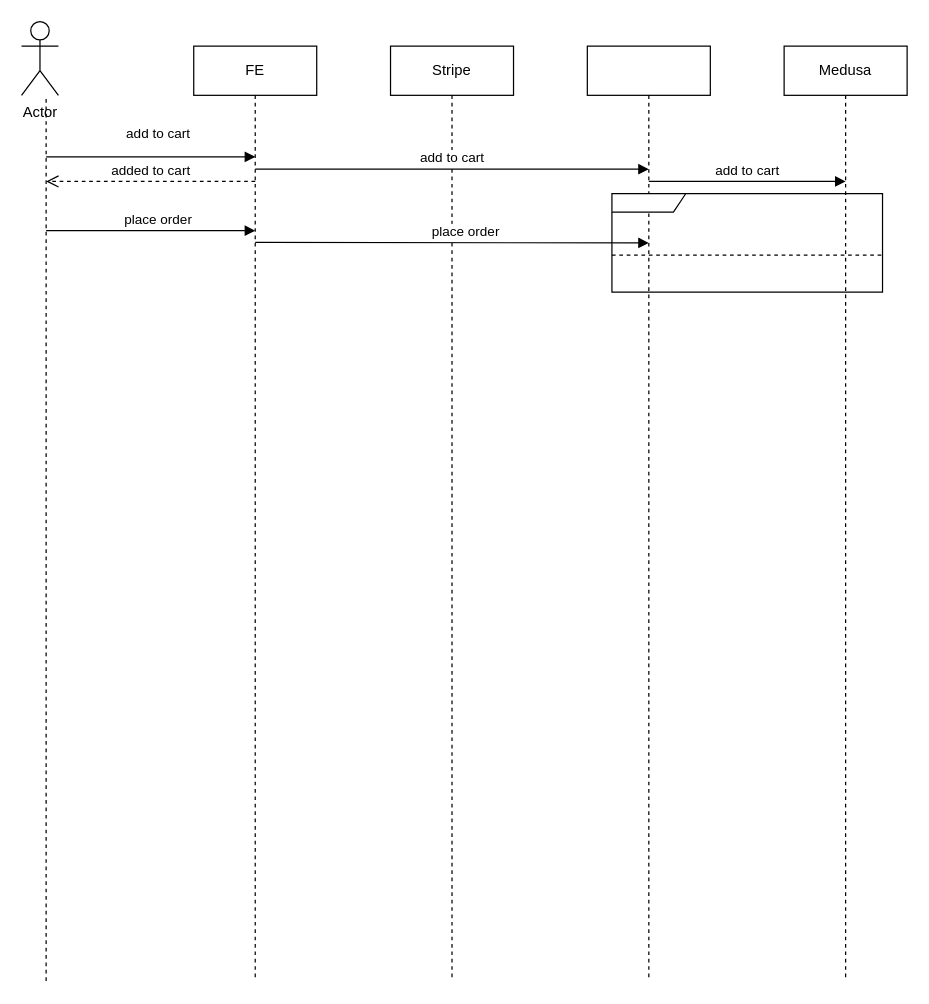
Image size: 929x1004. Some labels were removed from this diagram. The shapes that lost their labels are listed below. From the top down, each one's box as (x1, y1, x2, y2) in pixels, then its label:
(611, 192, 883, 292): frame
(586, 45, 710, 981): BE
